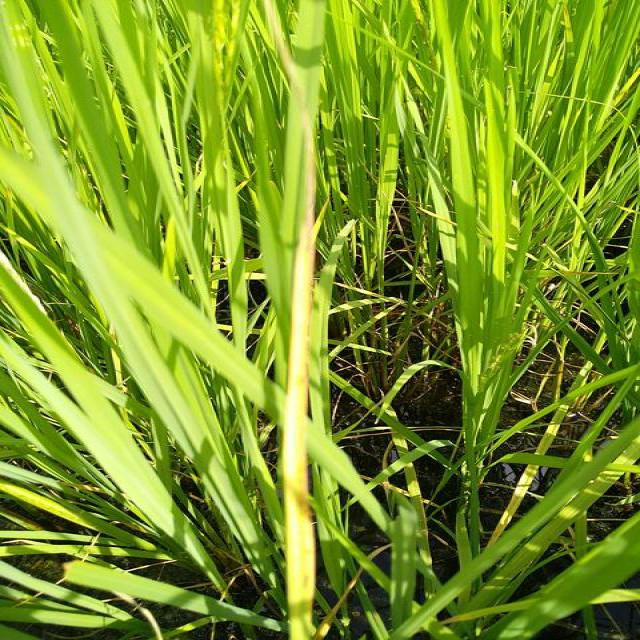Leaf Blight: (277, 123, 319, 606)
